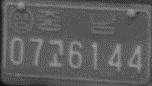0: (9, 35, 25, 66)
1: (87, 41, 103, 71)
4: (107, 42, 124, 71), (128, 45, 144, 72)
6: (67, 40, 84, 68)
7: (29, 37, 43, 66)
고: (47, 39, 64, 67)
영: (8, 7, 34, 34)
충남_D: (37, 7, 117, 34)
